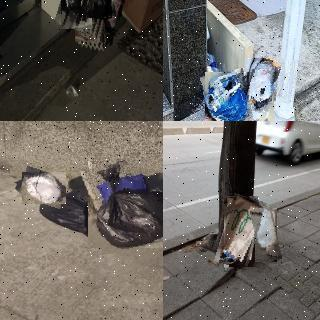Garbage: (84, 157, 163, 251), (219, 194, 263, 269), (43, 192, 104, 233), (202, 70, 251, 121), (241, 56, 278, 121), (20, 169, 68, 207), (253, 207, 279, 263), (57, 0, 95, 30), (84, 0, 114, 19)
